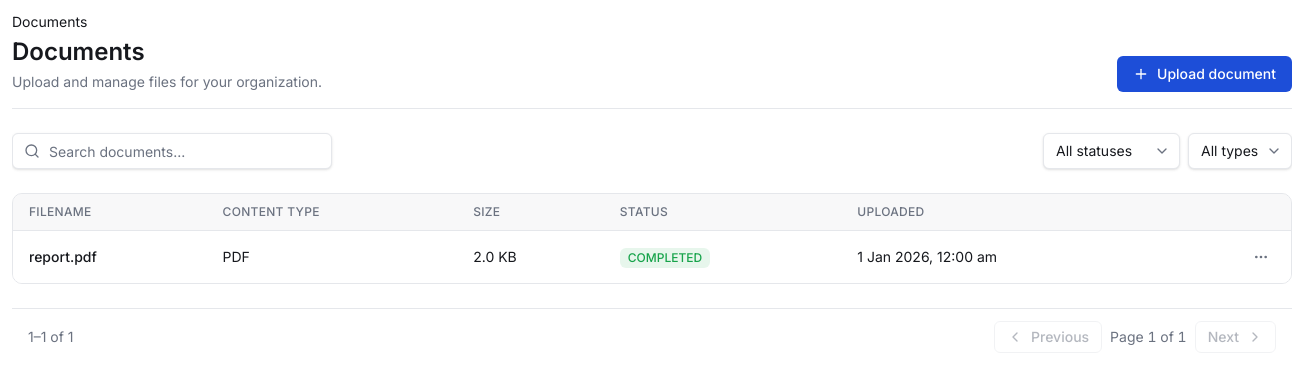
Test case: DocumentsListPage › RBAC visibility › SALES sees Upload but not Delete
This screenshot has width=1304, height=372.
Check: the link "report.pdf" is shown, box [29,248,97,265]
Check: the button "Upload document" is shown, box [1117,56,1292,92]
Click the button named "Actions for report.pdf" at (1261, 257), box [1247,243,1275,271]
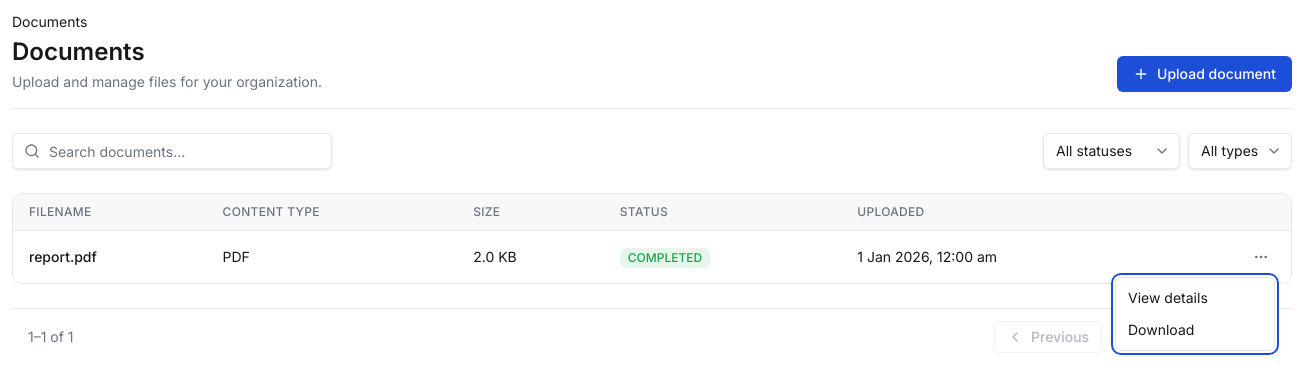
Check: the menu item "Download" is shown, box [1128,321,1194,338]
